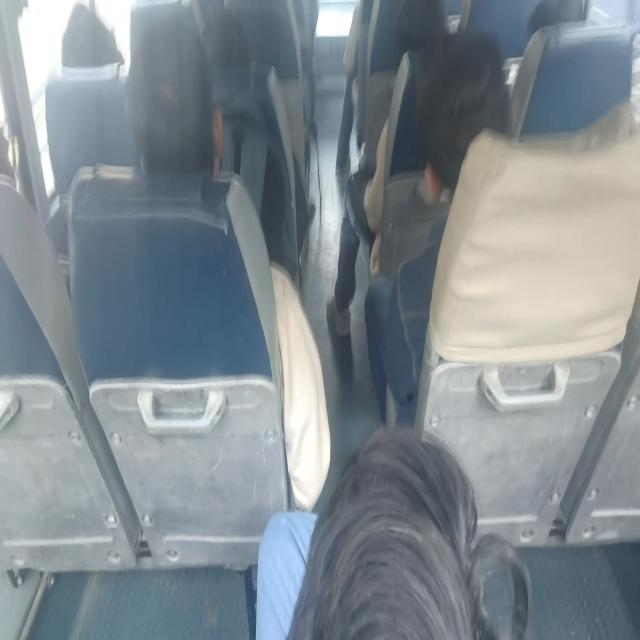person: (283, 412, 529, 640), (409, 52, 519, 221), (124, 19, 223, 177), (57, 0, 118, 74), (392, 0, 451, 65), (0, 97, 33, 199), (523, 0, 599, 36)
